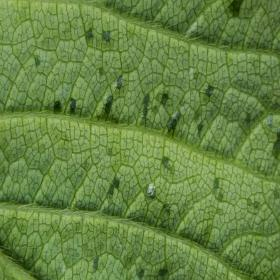Angular Leafspot: (32, 0, 279, 279)
